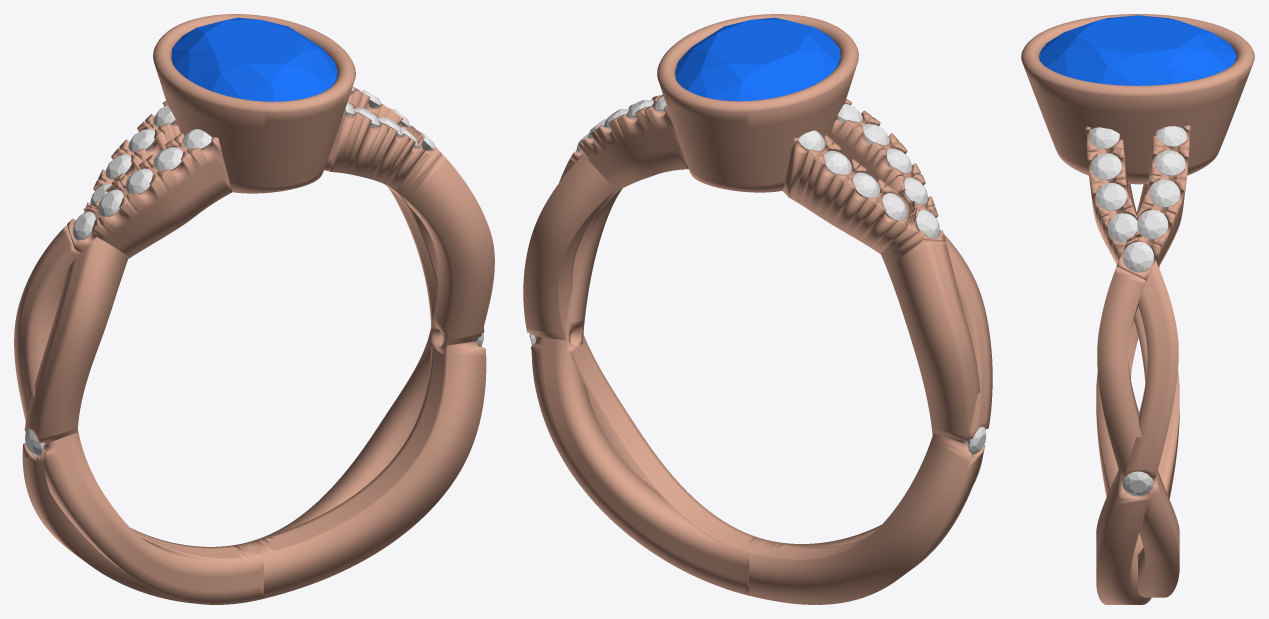
The model's file is bluesapphire-oval-rosegold-bezelset-twist-sidestones.glb.
3 renders of one model, left to right at view 1: azimuth 30°, elevation 25°; view 2: azimuth 150°, elevation 25°; view 3: azimuth 270°, elevation 25°, orthographic.
Parts seen in each view (by area): view 1: metal.002, stone; view 2: metal.002, stone; view 3: metal.002, stone, Twist shank diamonds.015, Twist shank diamonds.016, Twist shank diamonds.017, Twist shank diamonds.012, Twist shank diamonds.011, Twist shank diamonds.013, Twist shank diamonds.018, Twist shank diamonds.010, Twist shank diamonds.014, Twist shank diamonds.019.
Boxes of the visible parts, bbox=[...] form: metal.002: bbox=[14, 14, 494, 604]; stone: bbox=[171, 17, 337, 101]; metal.002: bbox=[523, 14, 992, 604]; stone: bbox=[675, 17, 840, 101]; metal.002: bbox=[1021, 14, 1254, 604]; stone: bbox=[1039, 15, 1236, 85]; Twist shank diamonds.015: bbox=[1123, 241, 1153, 271]; Twist shank diamonds.016: bbox=[1137, 210, 1168, 239]; Twist shank diamonds.017: bbox=[1149, 179, 1180, 207]; Twist shank diamonds.012: bbox=[1096, 183, 1126, 210]; Twist shank diamonds.011: bbox=[1108, 213, 1137, 242]; Twist shank diamonds.013: bbox=[1091, 153, 1121, 180]; Twist shank diamonds.018: bbox=[1154, 150, 1185, 175]; Twist shank diamonds.010: bbox=[1122, 471, 1153, 496]; Twist shank diamonds.014: bbox=[1089, 127, 1119, 148]; Twist shank diamonds.019: bbox=[1156, 126, 1186, 146].
Bounding box in the file's own units: 19.97 × 23.2 × 9.04.
